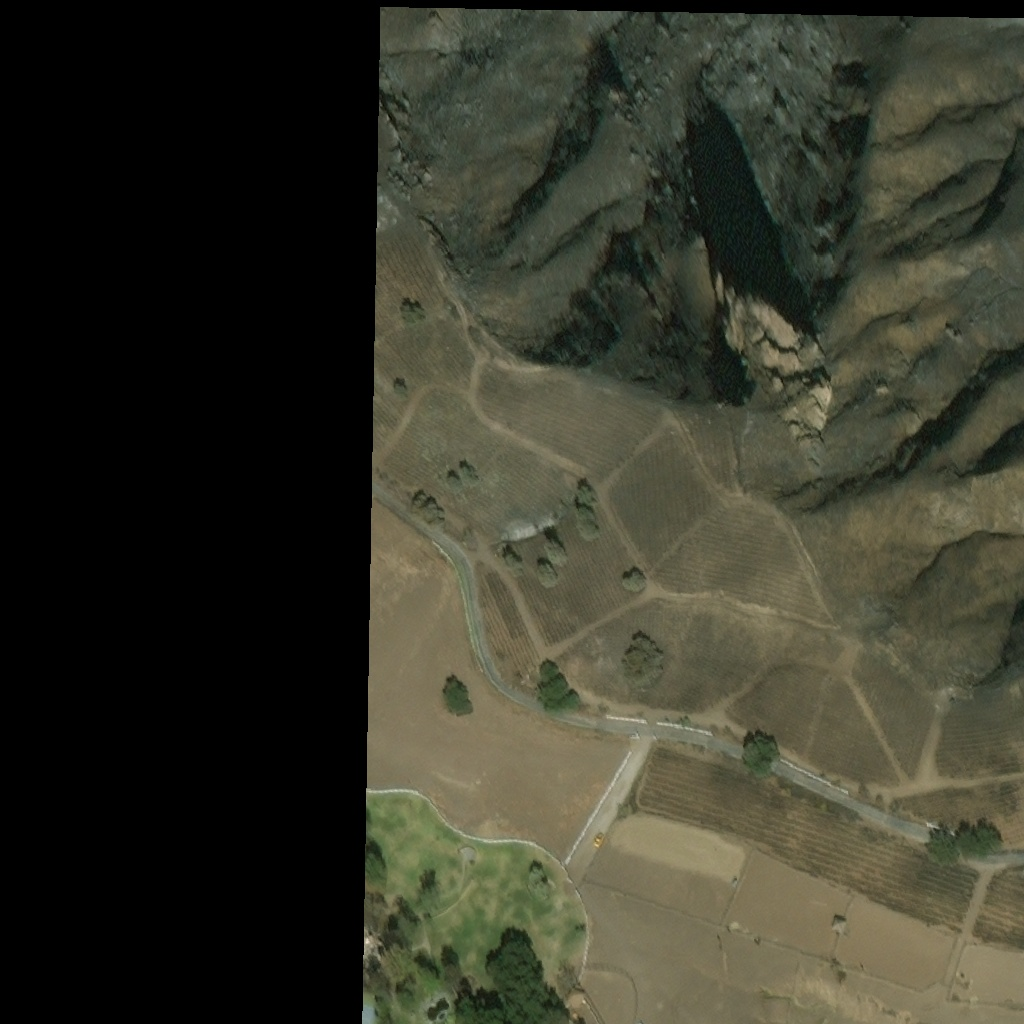0 no-damage: (832, 916, 849, 934)
3 destroyed: (363, 936, 384, 969)
4 un-classified: (362, 1002, 375, 1023)
